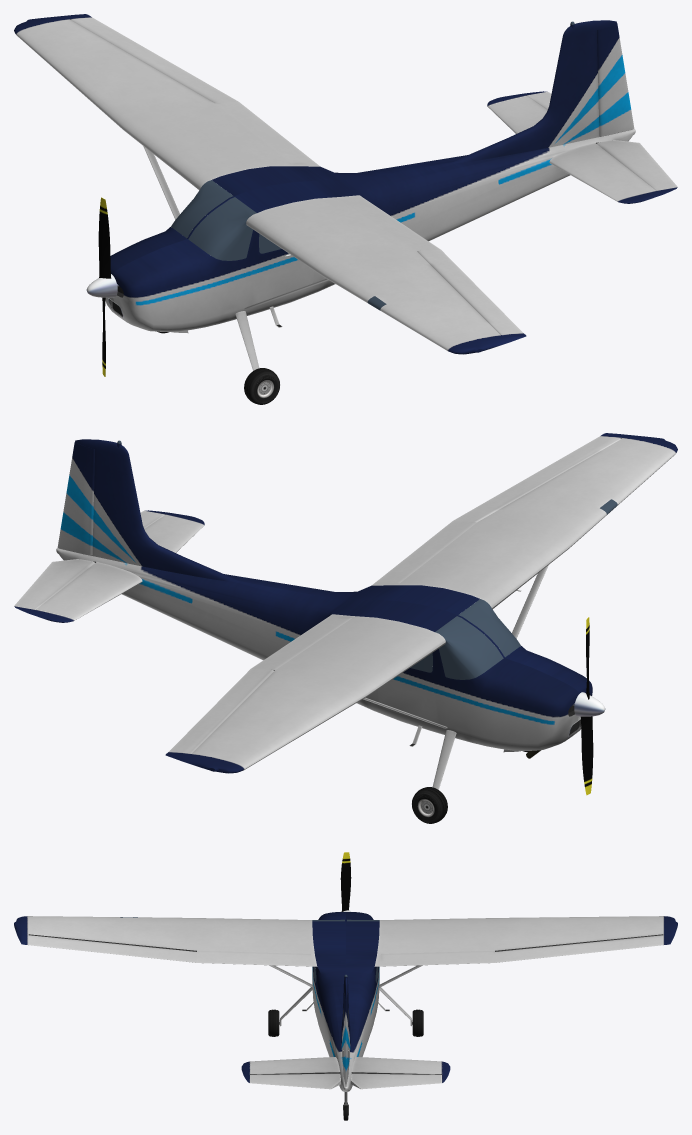
3 views of the same model, one above another, from view 1: azimuth 30°, elevation 25°; view 2: azimuth 150°, elevation 25°; view 3: azimuth 270°, elevation 25° (orthographic). The views are drawn at different scales.
Parts seen in each view (by area): view 1: Object_23, Object_24, Object_26; view 2: Object_23, Object_24, Object_26; view 3: Object_23, Object_24.
Boxes of the visible parts, x1,y1,x2,y2 form: Object_23: (14,14,634,404); Object_24: (105,20,677,331); Object_26: (171,21,574,310); Object_23: (57,433,677,823); Object_24: (14,439,592,750); Object_26: (117,440,617,679); Object_23: (14,852,677,1120); Object_24: (241,912,450,1115).
Size of the model in its own units: 7.84 by 3.43 by 10.87.
2 materials, 1 textured.
